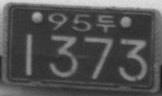1: (16, 33, 41, 75)
3: (119, 37, 148, 81), (49, 34, 77, 78)
5: (71, 13, 92, 32)
7: (83, 36, 113, 80)
9: (48, 12, 68, 30)
두: (96, 13, 116, 33)
